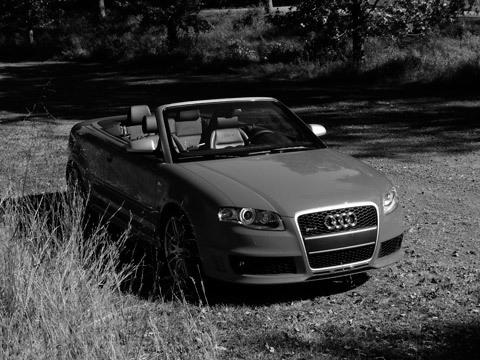car: (65, 96, 408, 299)
